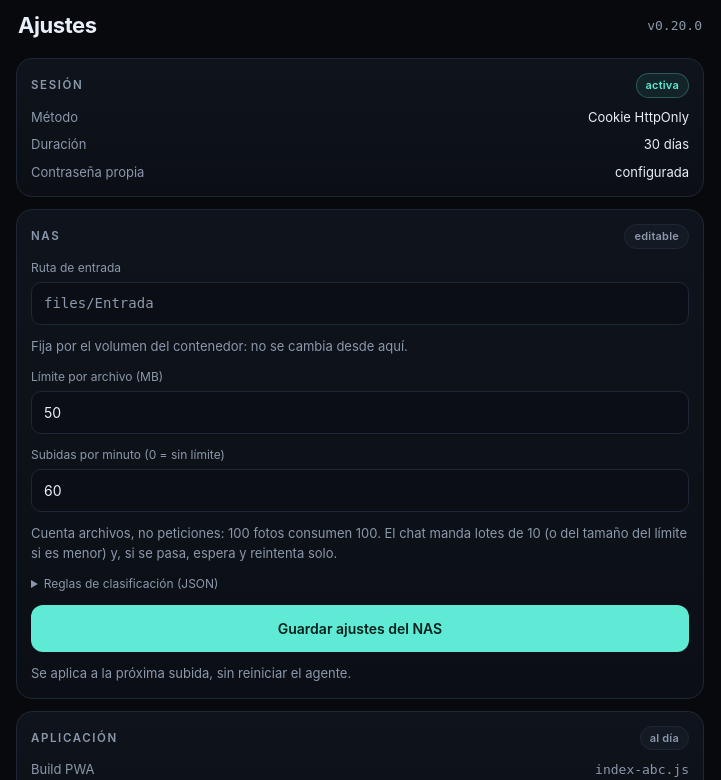
Ajustes · NAS › guarda los límites con CSRF y muestra confirmación
Replace the text in the number field showing "50" with "80" at (360, 412), box [31,391,689,434]
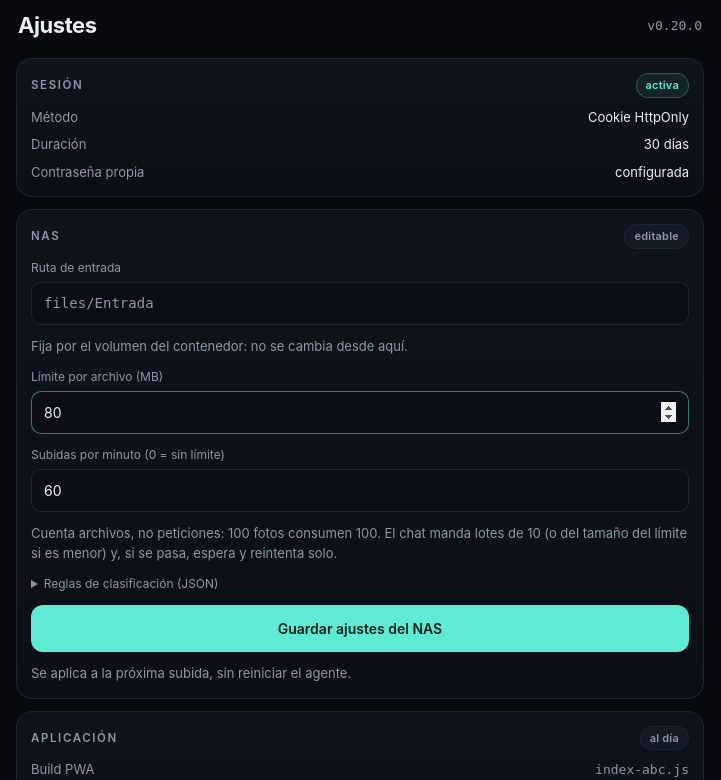
Click the button "Guardar ajustes del NAS" at (360, 628), box [31,605,689,652]
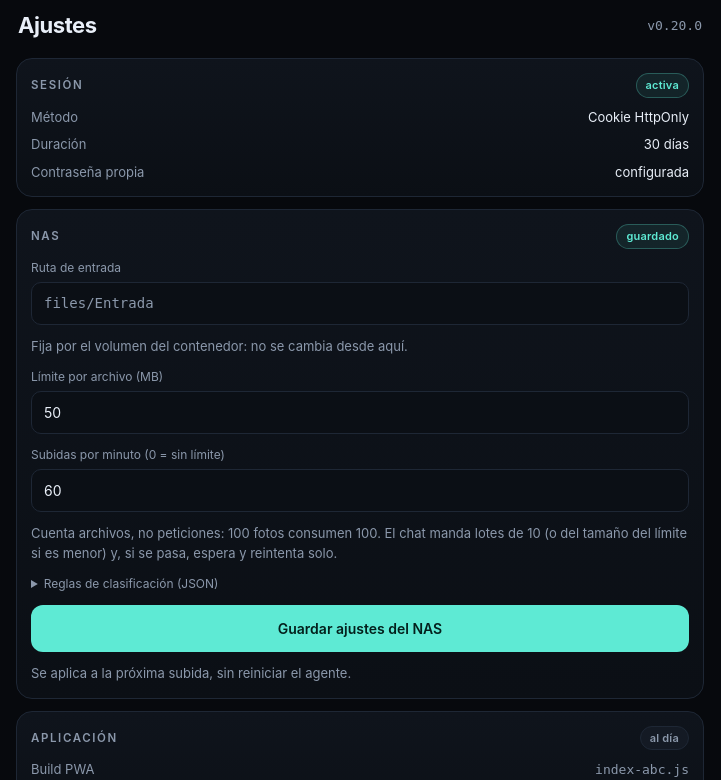
Expected: the text "guardado" is shown, [616,224,689,248]
